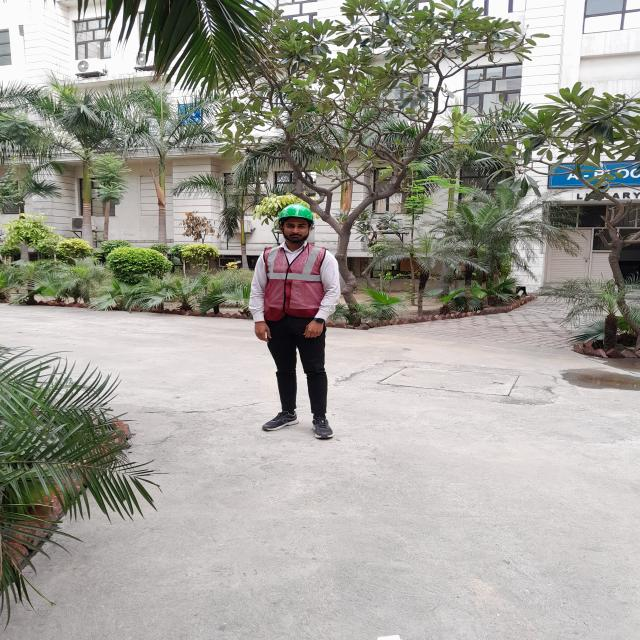safe: (250, 203, 340, 438)
